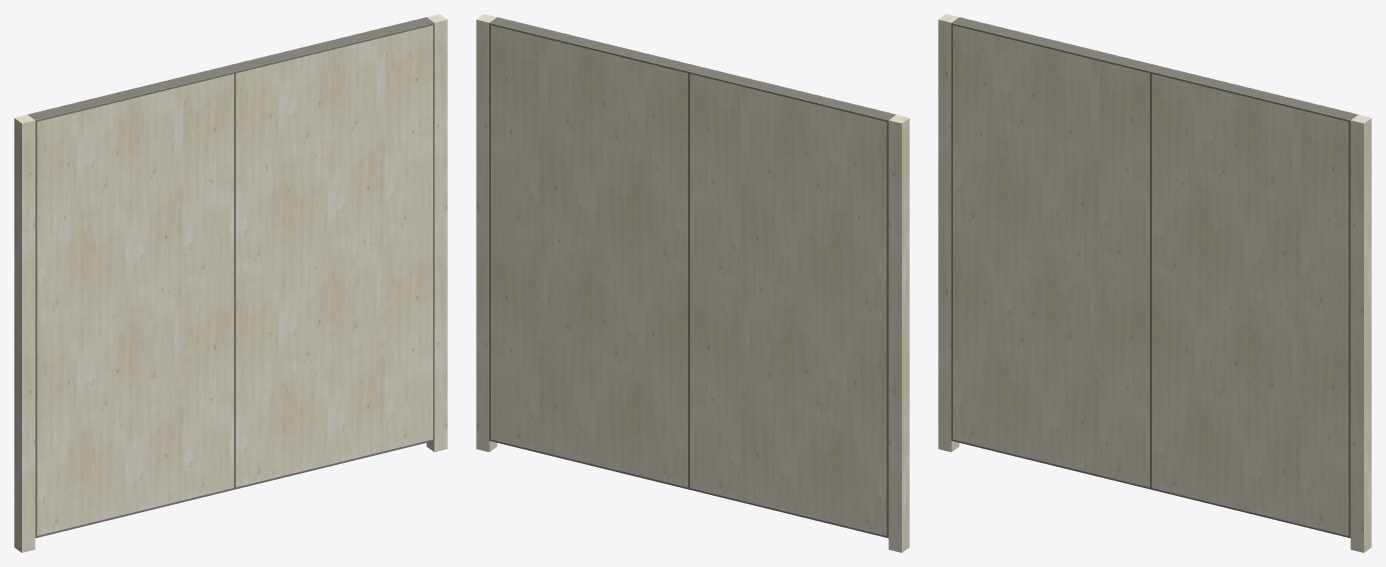
Rendered from ABF5-H1800_whitepine.fbx.
3 renders of one model, left to right at view 1: azimuth 30°, elevation 25°; view 2: azimuth 150°, elevation 25°; view 3: azimuth 330°, elevation 25°, orthographic.
Parts seen in each view (by area): view 1: ABF5-H1800_white pine; view 2: ABF5-H1800_white pine; view 3: ABF5-H1800_white pine.
Part boxes in pixels (x1=…): ABF5-H1800_white pine: x1=14, y1=14, x2=447, y2=552; ABF5-H1800_white pine: x1=476, y1=14, x2=909, y2=552; ABF5-H1800_white pine: x1=938, y1=14, x2=1371, y2=552.
Size of the model in its own units: 192 by 185 by 6.4.
4 materials, 3 textured.
